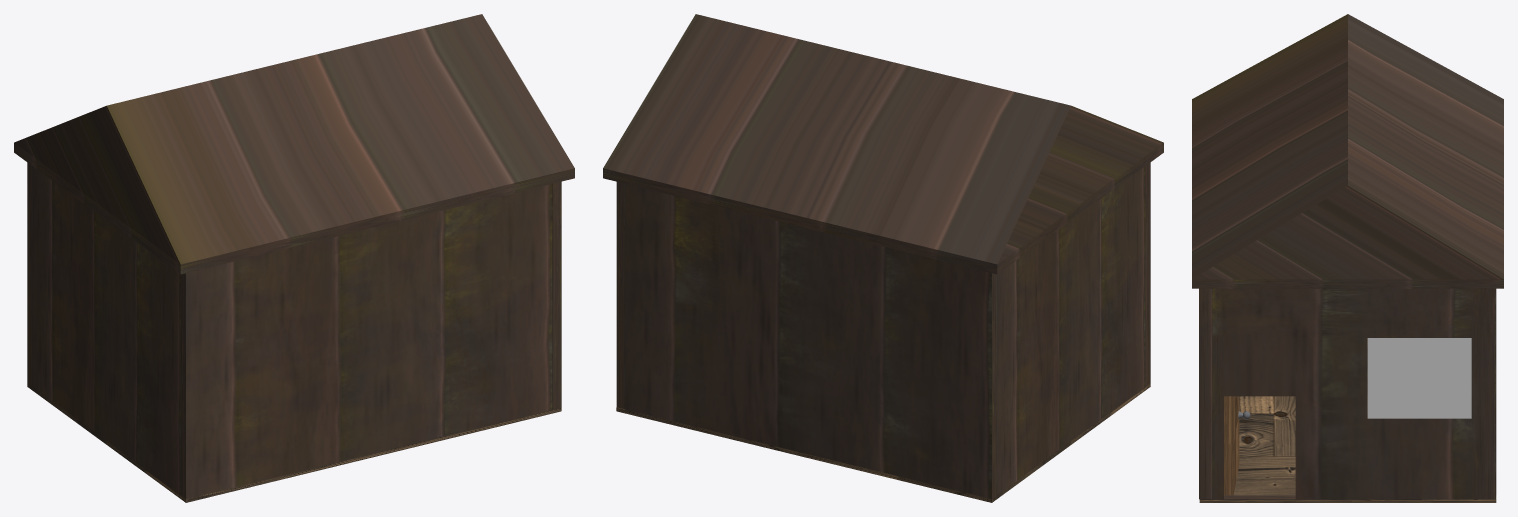
Rendered from Final version of Wood House bêta.fbx.
3 views of the same model, side by side, from view 1: azimuth 30°, elevation 25°; view 2: azimuth 150°, elevation 25°; view 3: azimuth 270°, elevation 25° (orthographic). The views are drawn at different scales.
Visible parts, largest first — view 1: Mur gauche, Toit, Cube, Sol, Mur Avant, Mur droit; view 2: Mur droit, Toit, Cube, Sol, Mur Avant, Mur gauche; view 3: Toit, Mur Avant, Fenêtre, Sol, Porte.
Boxes of the visible parts, bbox=[...] form: Mur gauche: bbox=[180, 184, 552, 498]; Toit: bbox=[14, 14, 574, 274]; Cube: bbox=[32, 166, 180, 494]; Sol: bbox=[27, 383, 561, 502]; Mur Avant: bbox=[552, 181, 561, 409]; Mur droit: bbox=[27, 162, 32, 386]; Mur droit: bbox=[625, 184, 997, 498]; Toit: bbox=[603, 14, 1163, 274]; Cube: bbox=[997, 166, 1145, 494]; Sol: bbox=[616, 383, 1150, 502]; Mur Avant: bbox=[616, 182, 625, 409]; Mur gauche: bbox=[1145, 162, 1150, 386]; Toit: bbox=[1192, 14, 1503, 288]; Mur Avant: bbox=[1199, 288, 1495, 499]; Fenêtre: bbox=[1367, 338, 1471, 418]; Sol: bbox=[1199, 338, 1496, 502]; Porte: bbox=[1224, 396, 1239, 495].
Size of the model in its own units: 2152 by 1770 by 1575.
